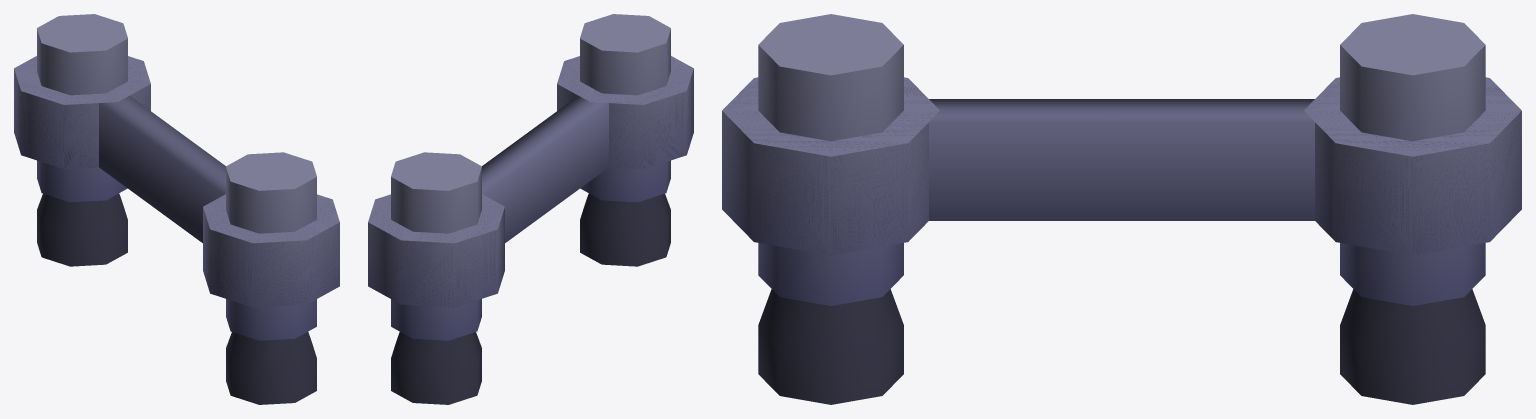
Rendered from structure-short.glb.
3 renders of one model, left to right at view 1: azimuth 30°, elevation 25°; view 2: azimuth 150°, elevation 25°; view 3: azimuth 270°, elevation 25°, orthographic. The views are drawn at different scales.
Visible parts, largest first — view 1: structure-short; view 2: structure-short; view 3: structure-short.
Boxes of the visible parts, left/top/right/bottom form: structure-short: left=14, top=14, right=339, bottom=404; structure-short: left=368, top=14, right=693, bottom=404; structure-short: left=722, top=14, right=1521, bottom=404.
Size of the model in its own units: 0.3 by 0.5 by 1.1.
